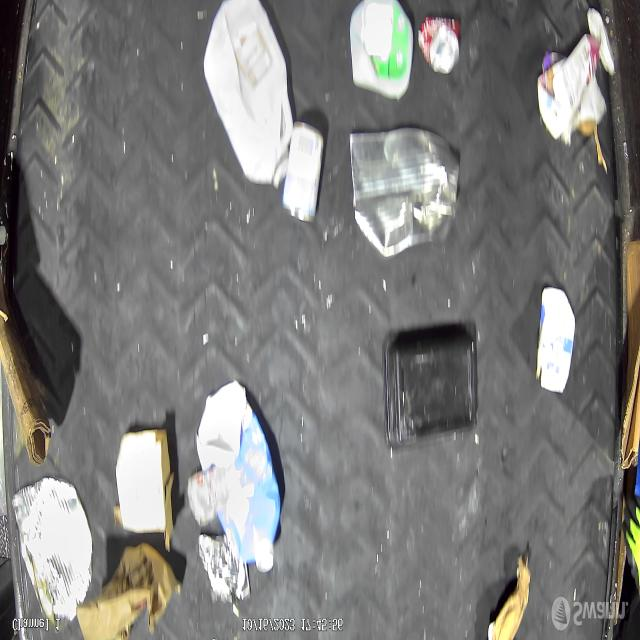can: (349, 125, 460, 258), (12, 477, 93, 632), (281, 122, 325, 228), (420, 11, 458, 81)
milk_jug: (202, 3, 292, 185), (349, 0, 413, 100)
non_white_jug: (201, 386, 281, 570)
